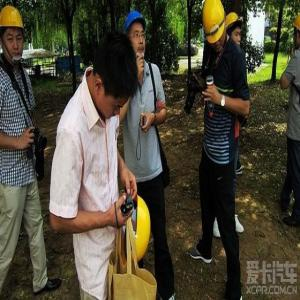blue: (125, 9, 148, 62)
none: (93, 31, 138, 123)
yellow: (2, 4, 26, 66), (203, 2, 227, 54), (227, 11, 243, 49), (294, 15, 300, 53)
